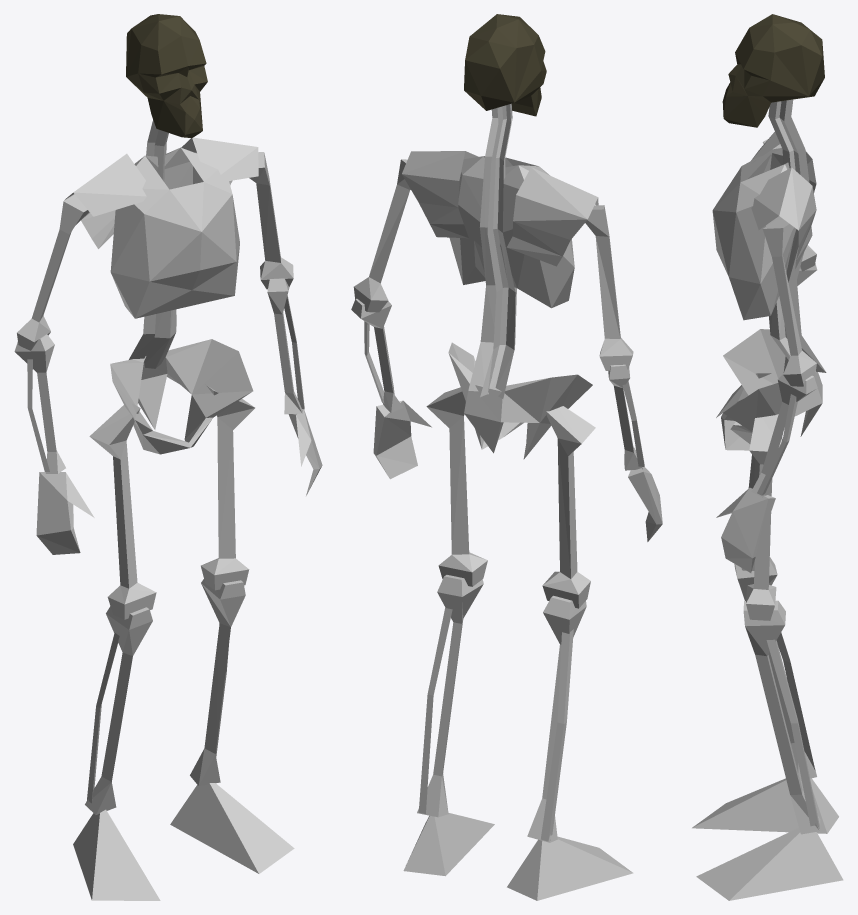
The model's file is SKE_BODY.OBJ.
3 renders of one model, left to right at view 1: azimuth 30°, elevation 25°; view 2: azimuth 150°, elevation 25°; view 3: azimuth 270°, elevation 25°, orthographic.
Visible parts, largest first — view 1: SKE_BODY; view 2: SKE_BODY; view 3: SKE_BODY.
Part boxes in pixels (bbox=[...]): SKE_BODY: bbox=[14, 14, 322, 900]; SKE_BODY: bbox=[351, 14, 662, 900]; SKE_BODY: bbox=[692, 14, 843, 900].
Bounding box in the file's own units: 0.6496 × 1.82 × 0.3021.
